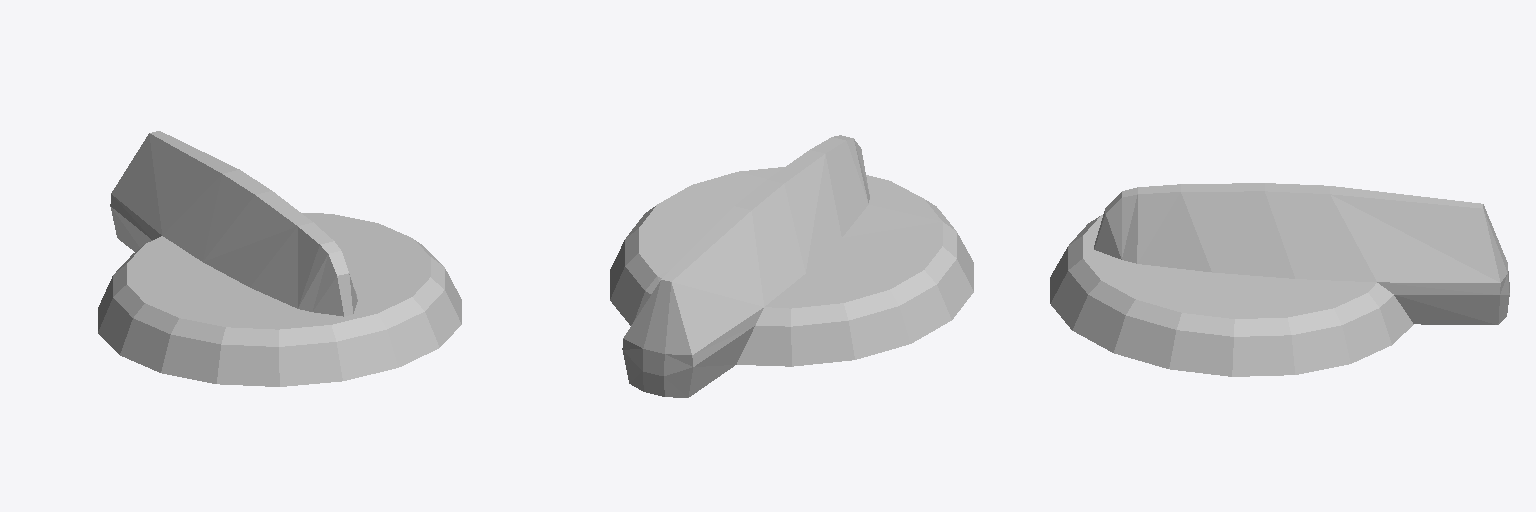
File: knob.obj
3 renders of one model, left to right at view 1: azimuth 30°, elevation 25°; view 2: azimuth 150°, elevation 25°; view 3: azimuth 270°, elevation 25°, orthographic.
Visible parts, largest first — view 1: rotary_headlights_F_0; view 2: rotary_headlights_F_0; view 3: rotary_headlights_F_0.
Boxes of the visible parts, x1,y1,x2,y2 form: rotary_headlights_F_0: [98, 131, 461, 386]; rotary_headlights_F_0: [610, 135, 973, 397]; rotary_headlights_F_0: [1050, 183, 1509, 376].
Size of the model in its own units: 0.0494 by 0.0203 by 0.0613.